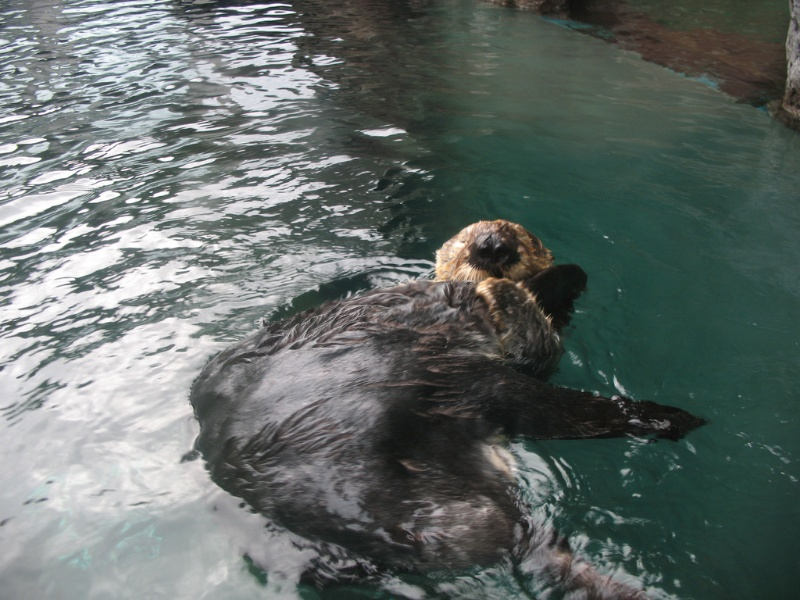minkish: (197, 213, 628, 559)
